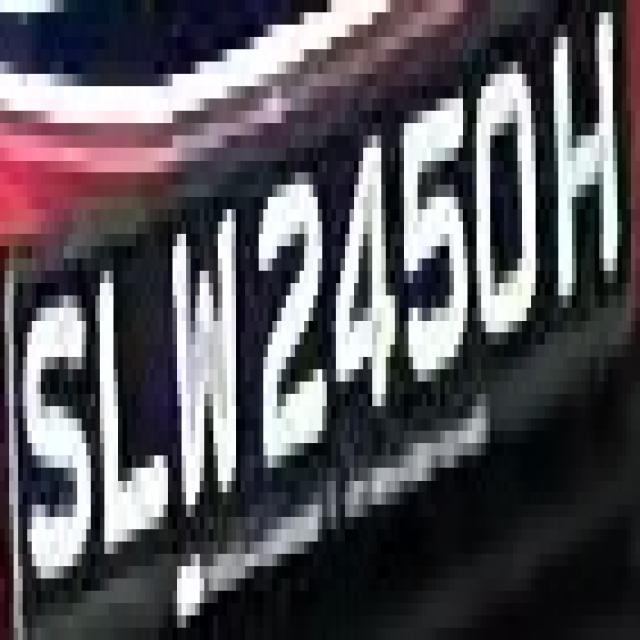0: (468, 37, 544, 406)
2: (245, 148, 331, 492)
4: (322, 135, 404, 480)
5: (390, 61, 472, 418)
H: (545, 12, 626, 332)
L: (82, 246, 186, 542)
S: (18, 258, 95, 616)
W: (154, 209, 254, 542)
